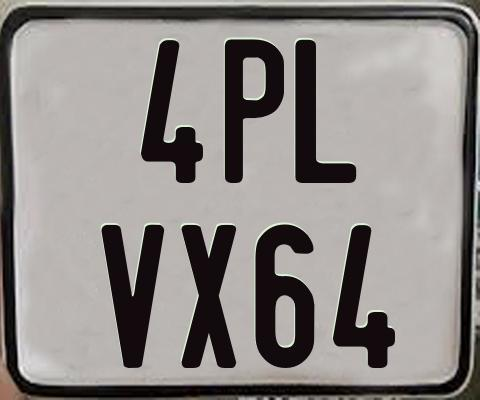4: (139, 38, 201, 185), (330, 225, 392, 369)
6: (254, 222, 319, 370)
L: (294, 38, 359, 182)
P: (225, 38, 287, 185)
V: (101, 225, 169, 370)
X: (178, 224, 235, 370)
